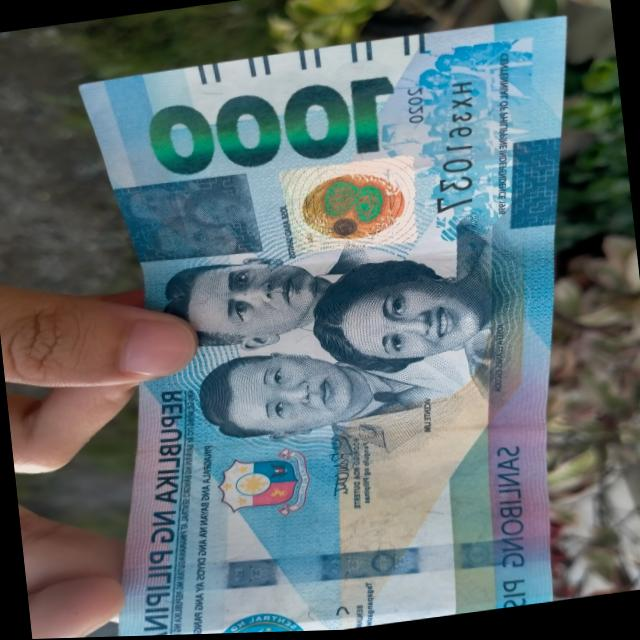concealed_value: (111, 175, 262, 264)
optically_variable_device: (277, 155, 424, 262)
security_thread: (114, 515, 556, 621)
serial_number: (415, 80, 498, 230)
